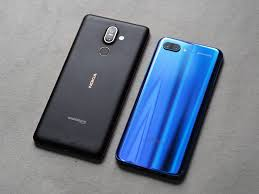nokia: (29, 9, 150, 164)
